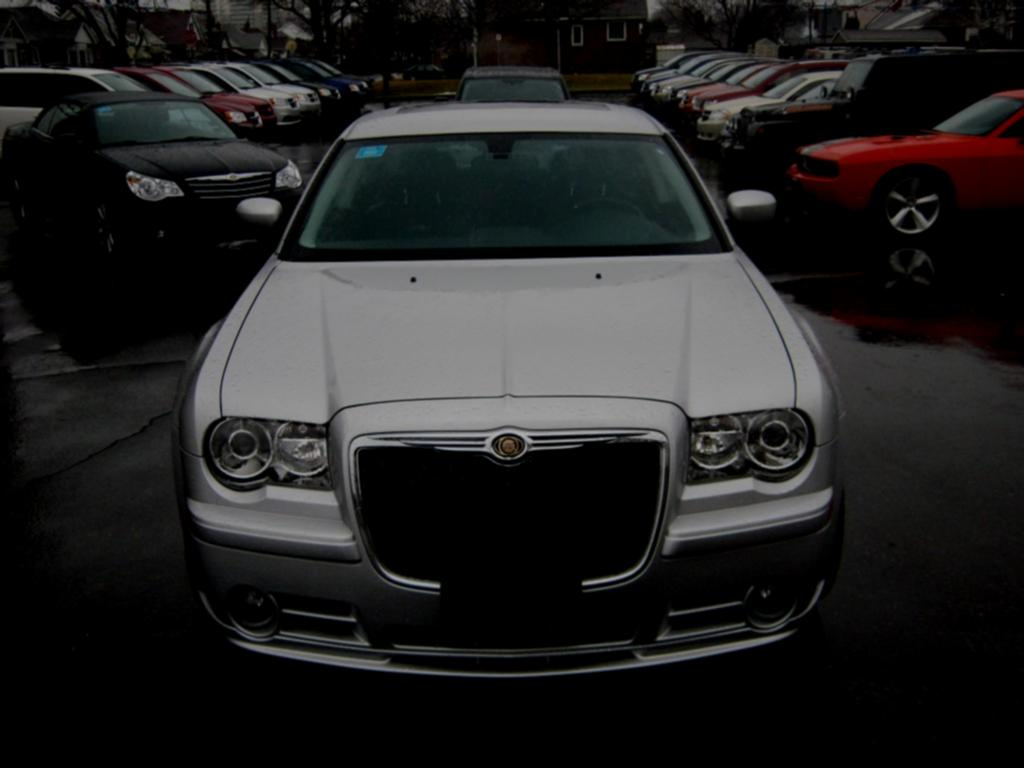Chrysler: (355, 410, 660, 463)
